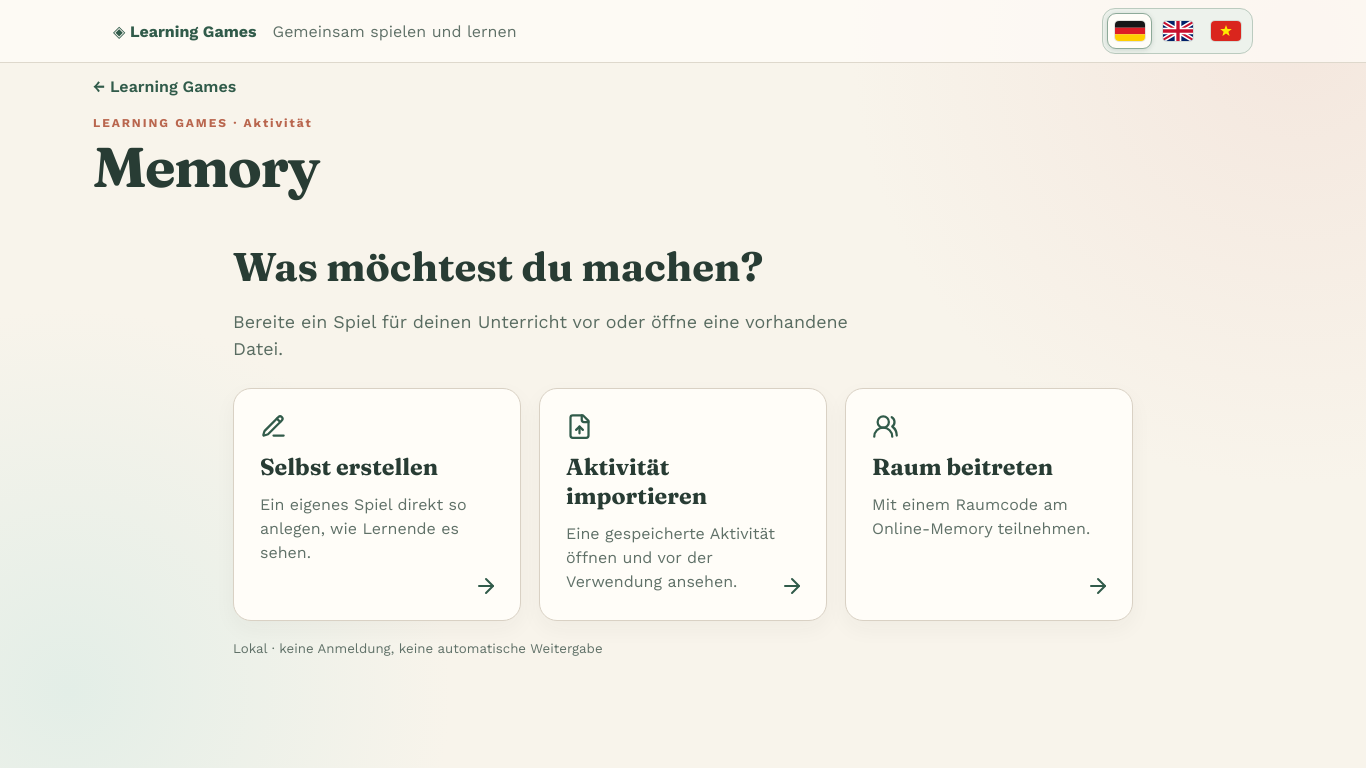
Test case: Memory unified entry without hosted writes › shows create/import plus existing join route, and switches interface language
The width and height of the screenshot is (1366, 768).
Check: the button "Selbst erstellen" is shown, box [233,388,521,622]
Check: the button "Aktivität importieren" is shown, box [539,388,827,622]
Click the button named "English" at point(1178, 31), box [1155,13,1200,49]
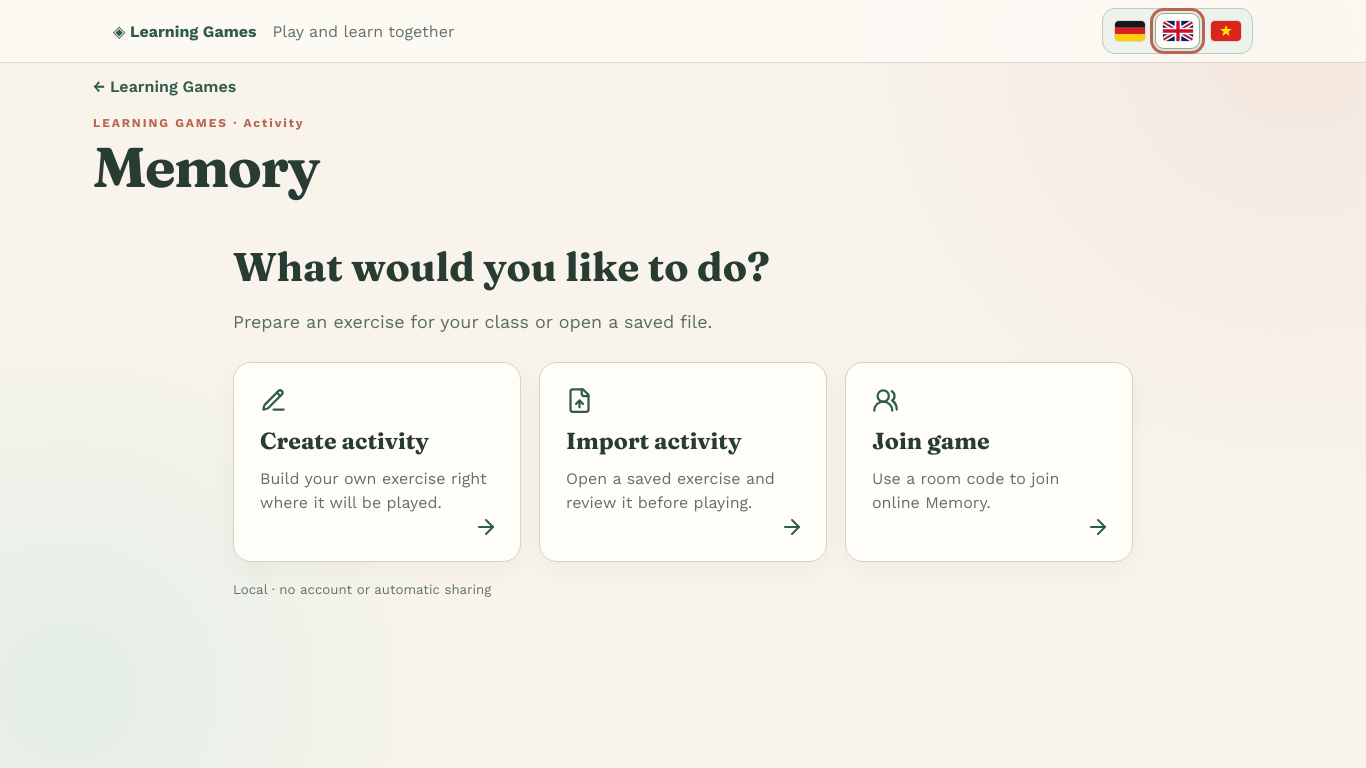
Check: the button "Create activity" is shown, box [233,362,521,562]
Check: the link "Join game Use a room code to join online Memory." is shown, box [845,362,1133,562]
